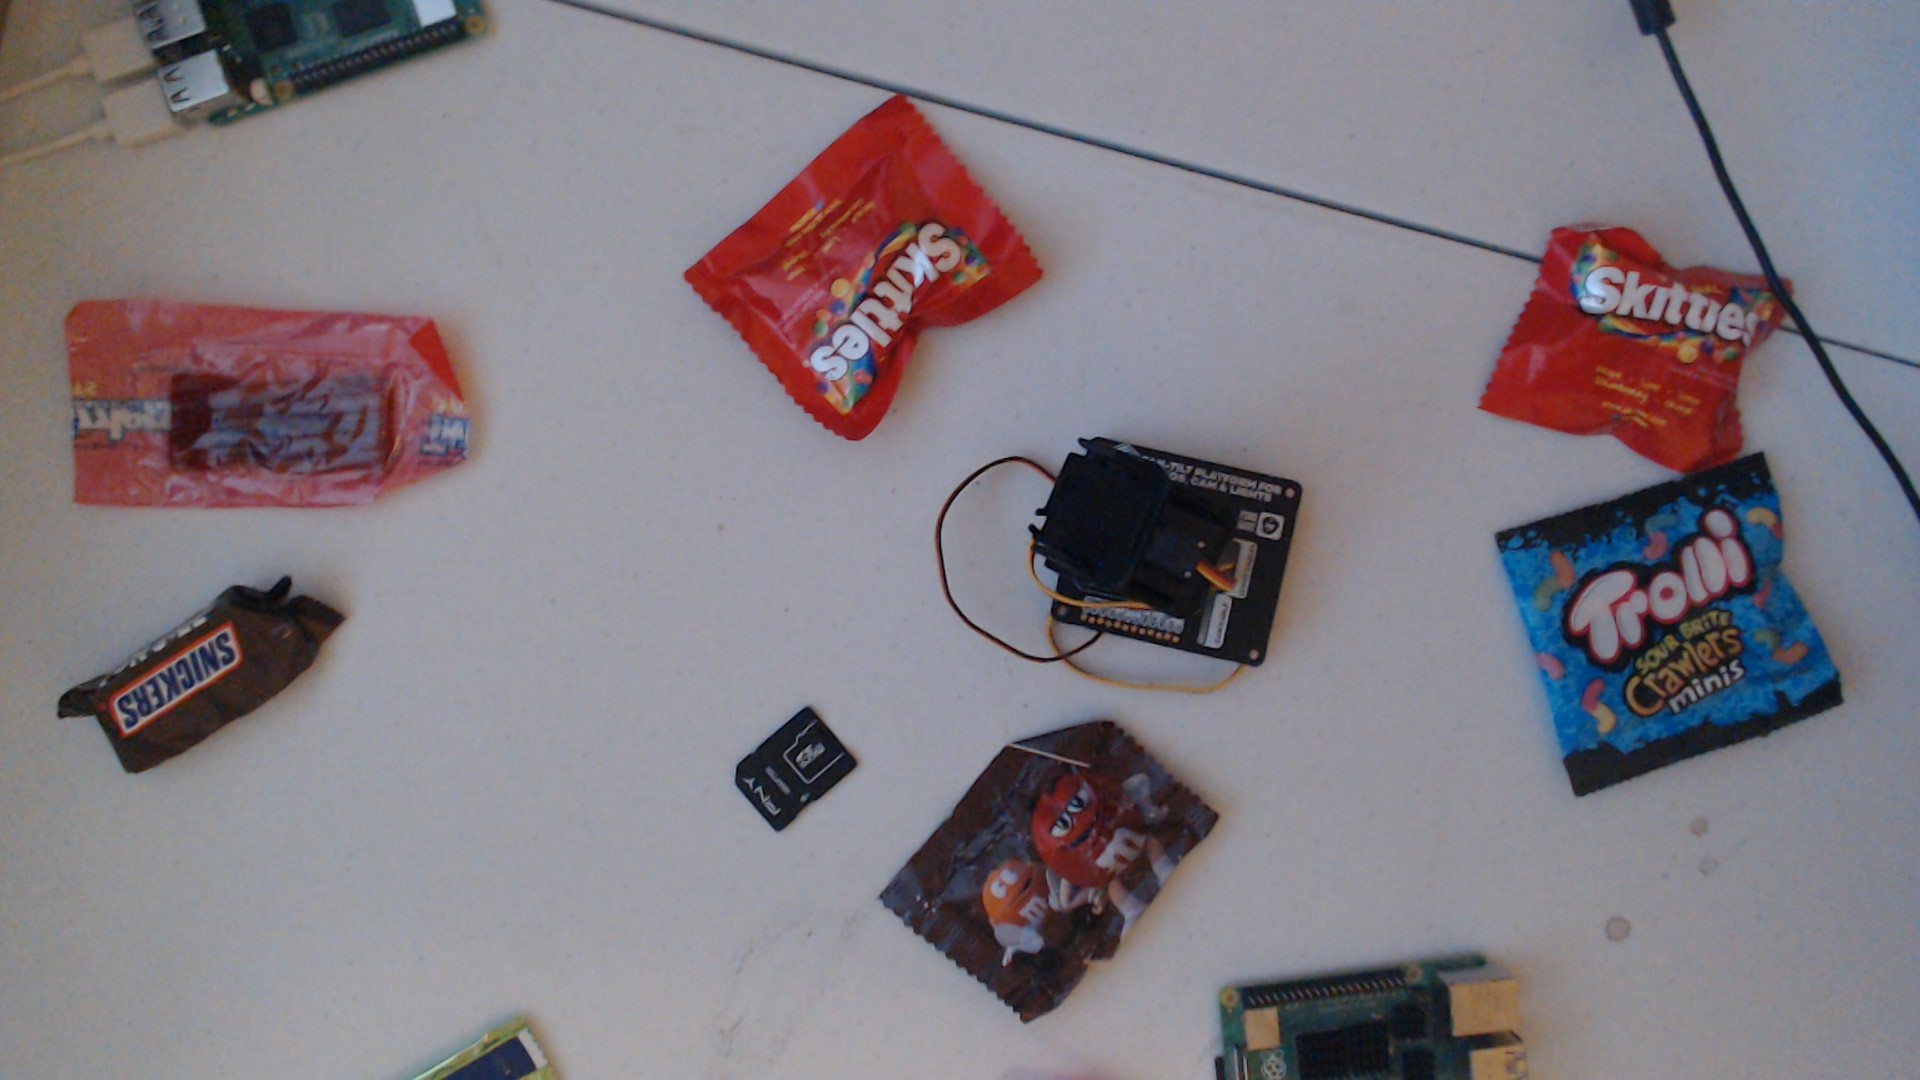MMs_peanut: (807, 688, 1220, 1050)
gummy_worms: (1453, 458, 1879, 816)
skittles: (642, 47, 1059, 467), (1482, 186, 1816, 469)
snickers: (25, 574, 372, 796)
twizzlers: (40, 278, 502, 531)
